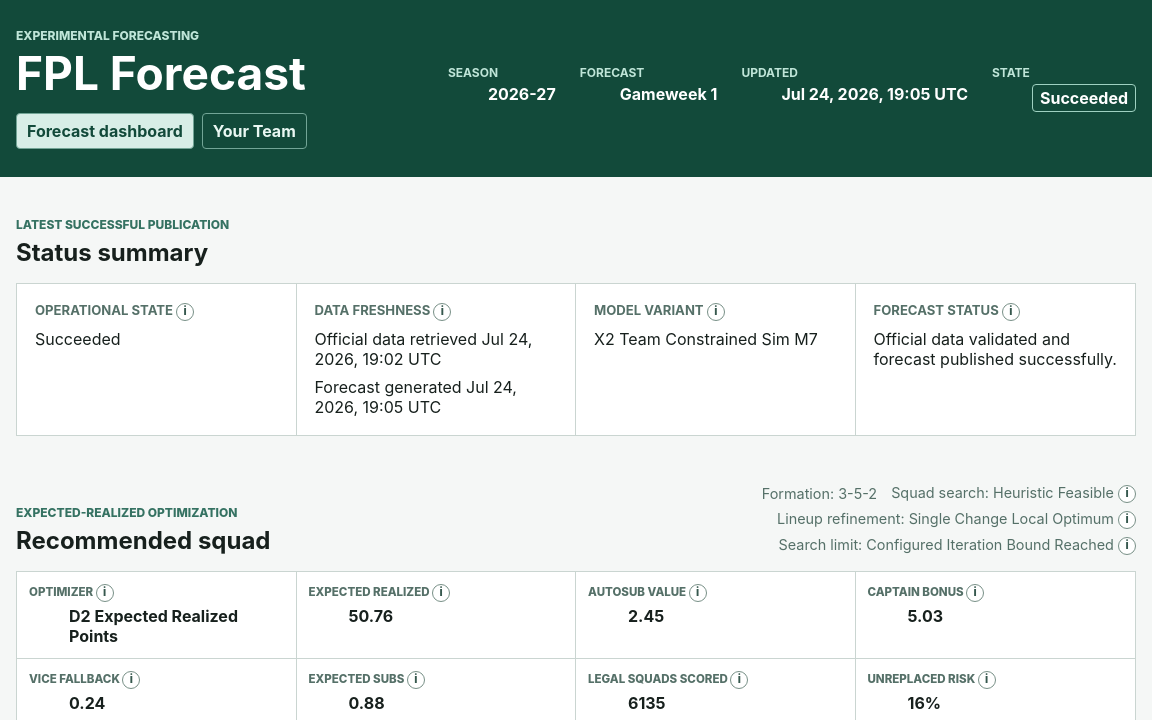
dashboard interactions › explains the status summary with accessible tooltips
Expected: the element "Status summary" is shown, left=16, top=217, right=1136, bottom=436
Click the button named "More information about Forecast status".
click(1011, 312)  # box left=1002, top=303, right=1020, bottom=321
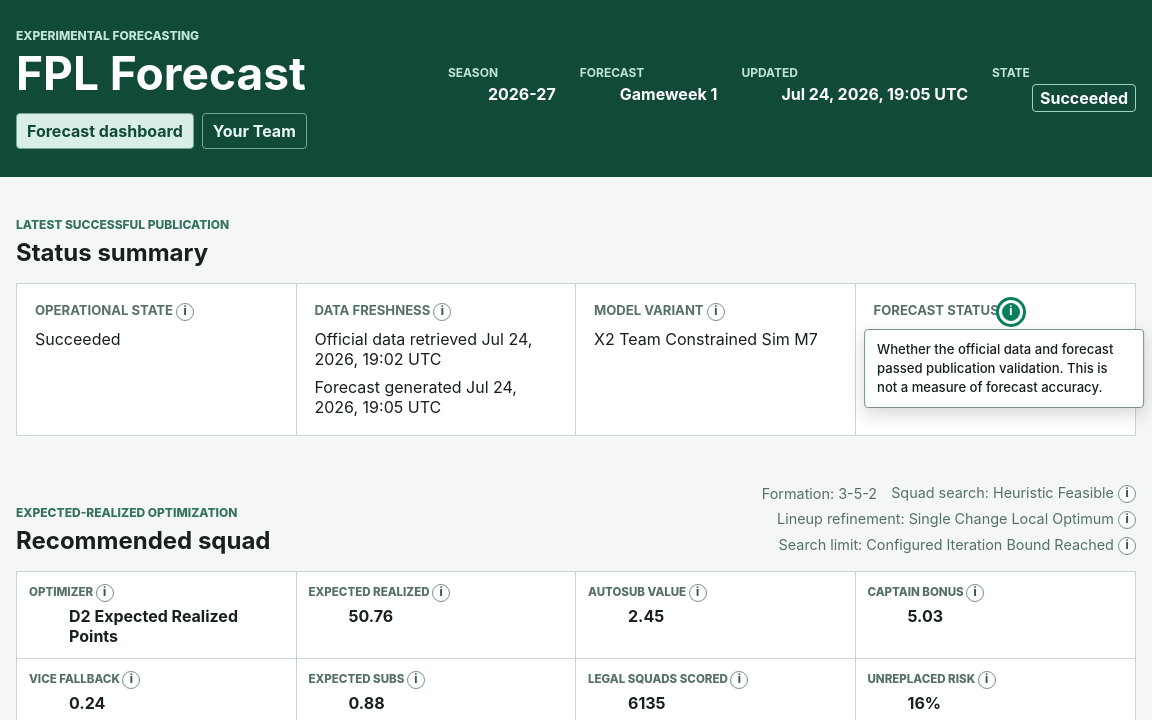
Result: the tooltip shows "not a measure of forecast accuracy" at left=877, top=341, right=1113, bottom=395
